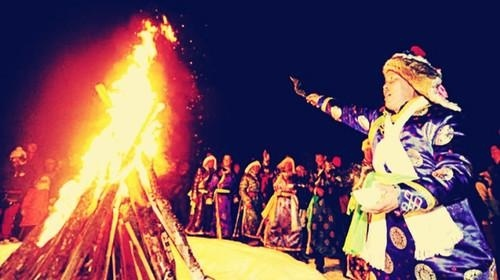fire: (45, 21, 176, 231)
